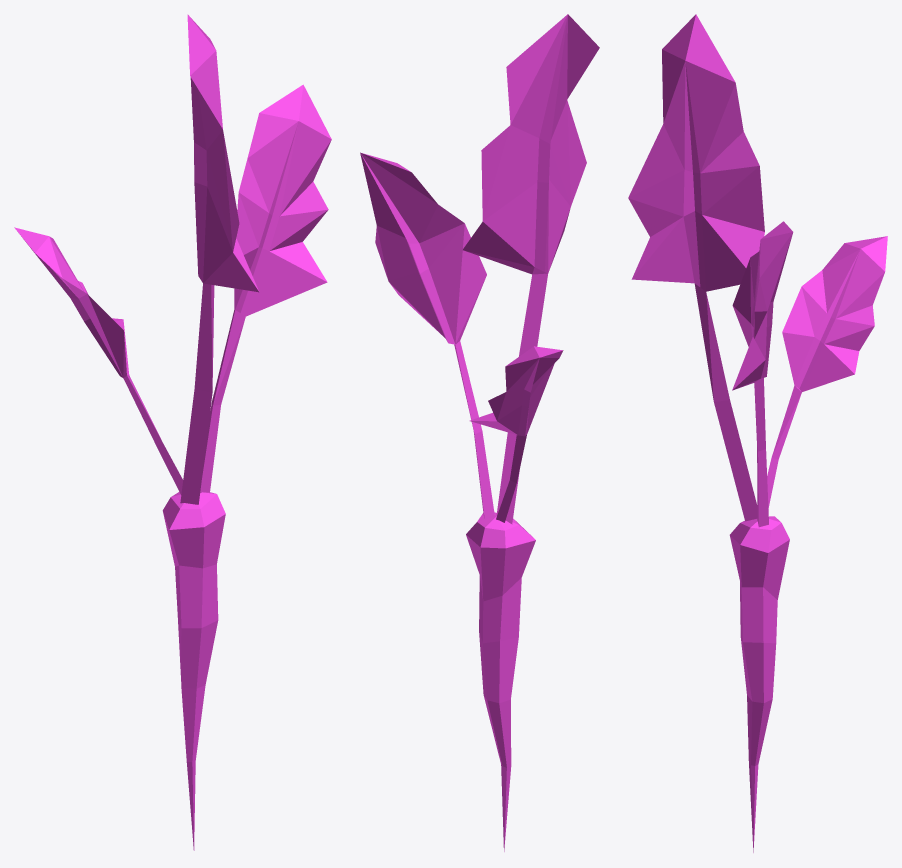
File: SM_Beetroot_Plant_Sapling_Root.fbx
The picture shows the model from 3 angles, left to right: view 1: azimuth 30°, elevation 25°; view 2: azimuth 150°, elevation 25°; view 3: azimuth 270°, elevation 25°; orthographic projection. The views are drawn at different scales.
Parts seen in each view (by area): view 1: SM_Beetroot_Plant_Sapling_Root; view 2: SM_Beetroot_Plant_Sapling_Root; view 3: SM_Beetroot_Plant_Sapling_Root.
Boxes of the visible parts, <box> form: SM_Beetroot_Plant_Sapling_Root: <box>14,14,331,850</box>; SM_Beetroot_Plant_Sapling_Root: <box>360,14,599,851</box>; SM_Beetroot_Plant_Sapling_Root: <box>628,14,887,852</box>.
Bounding box in the file's own units: 0.165 × 0.5456 × 0.1561.
